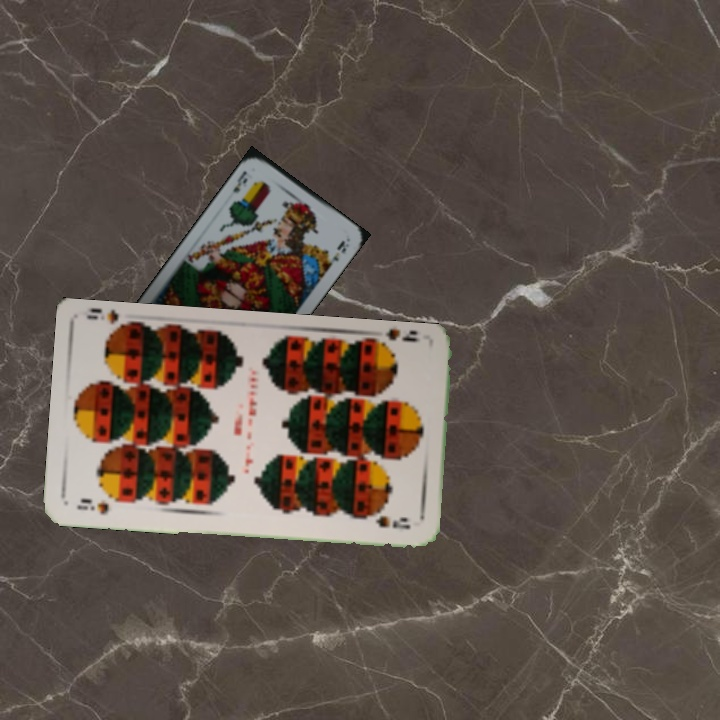EK: (229, 167, 250, 196)
S9: (370, 327, 423, 355), (73, 494, 112, 517)
